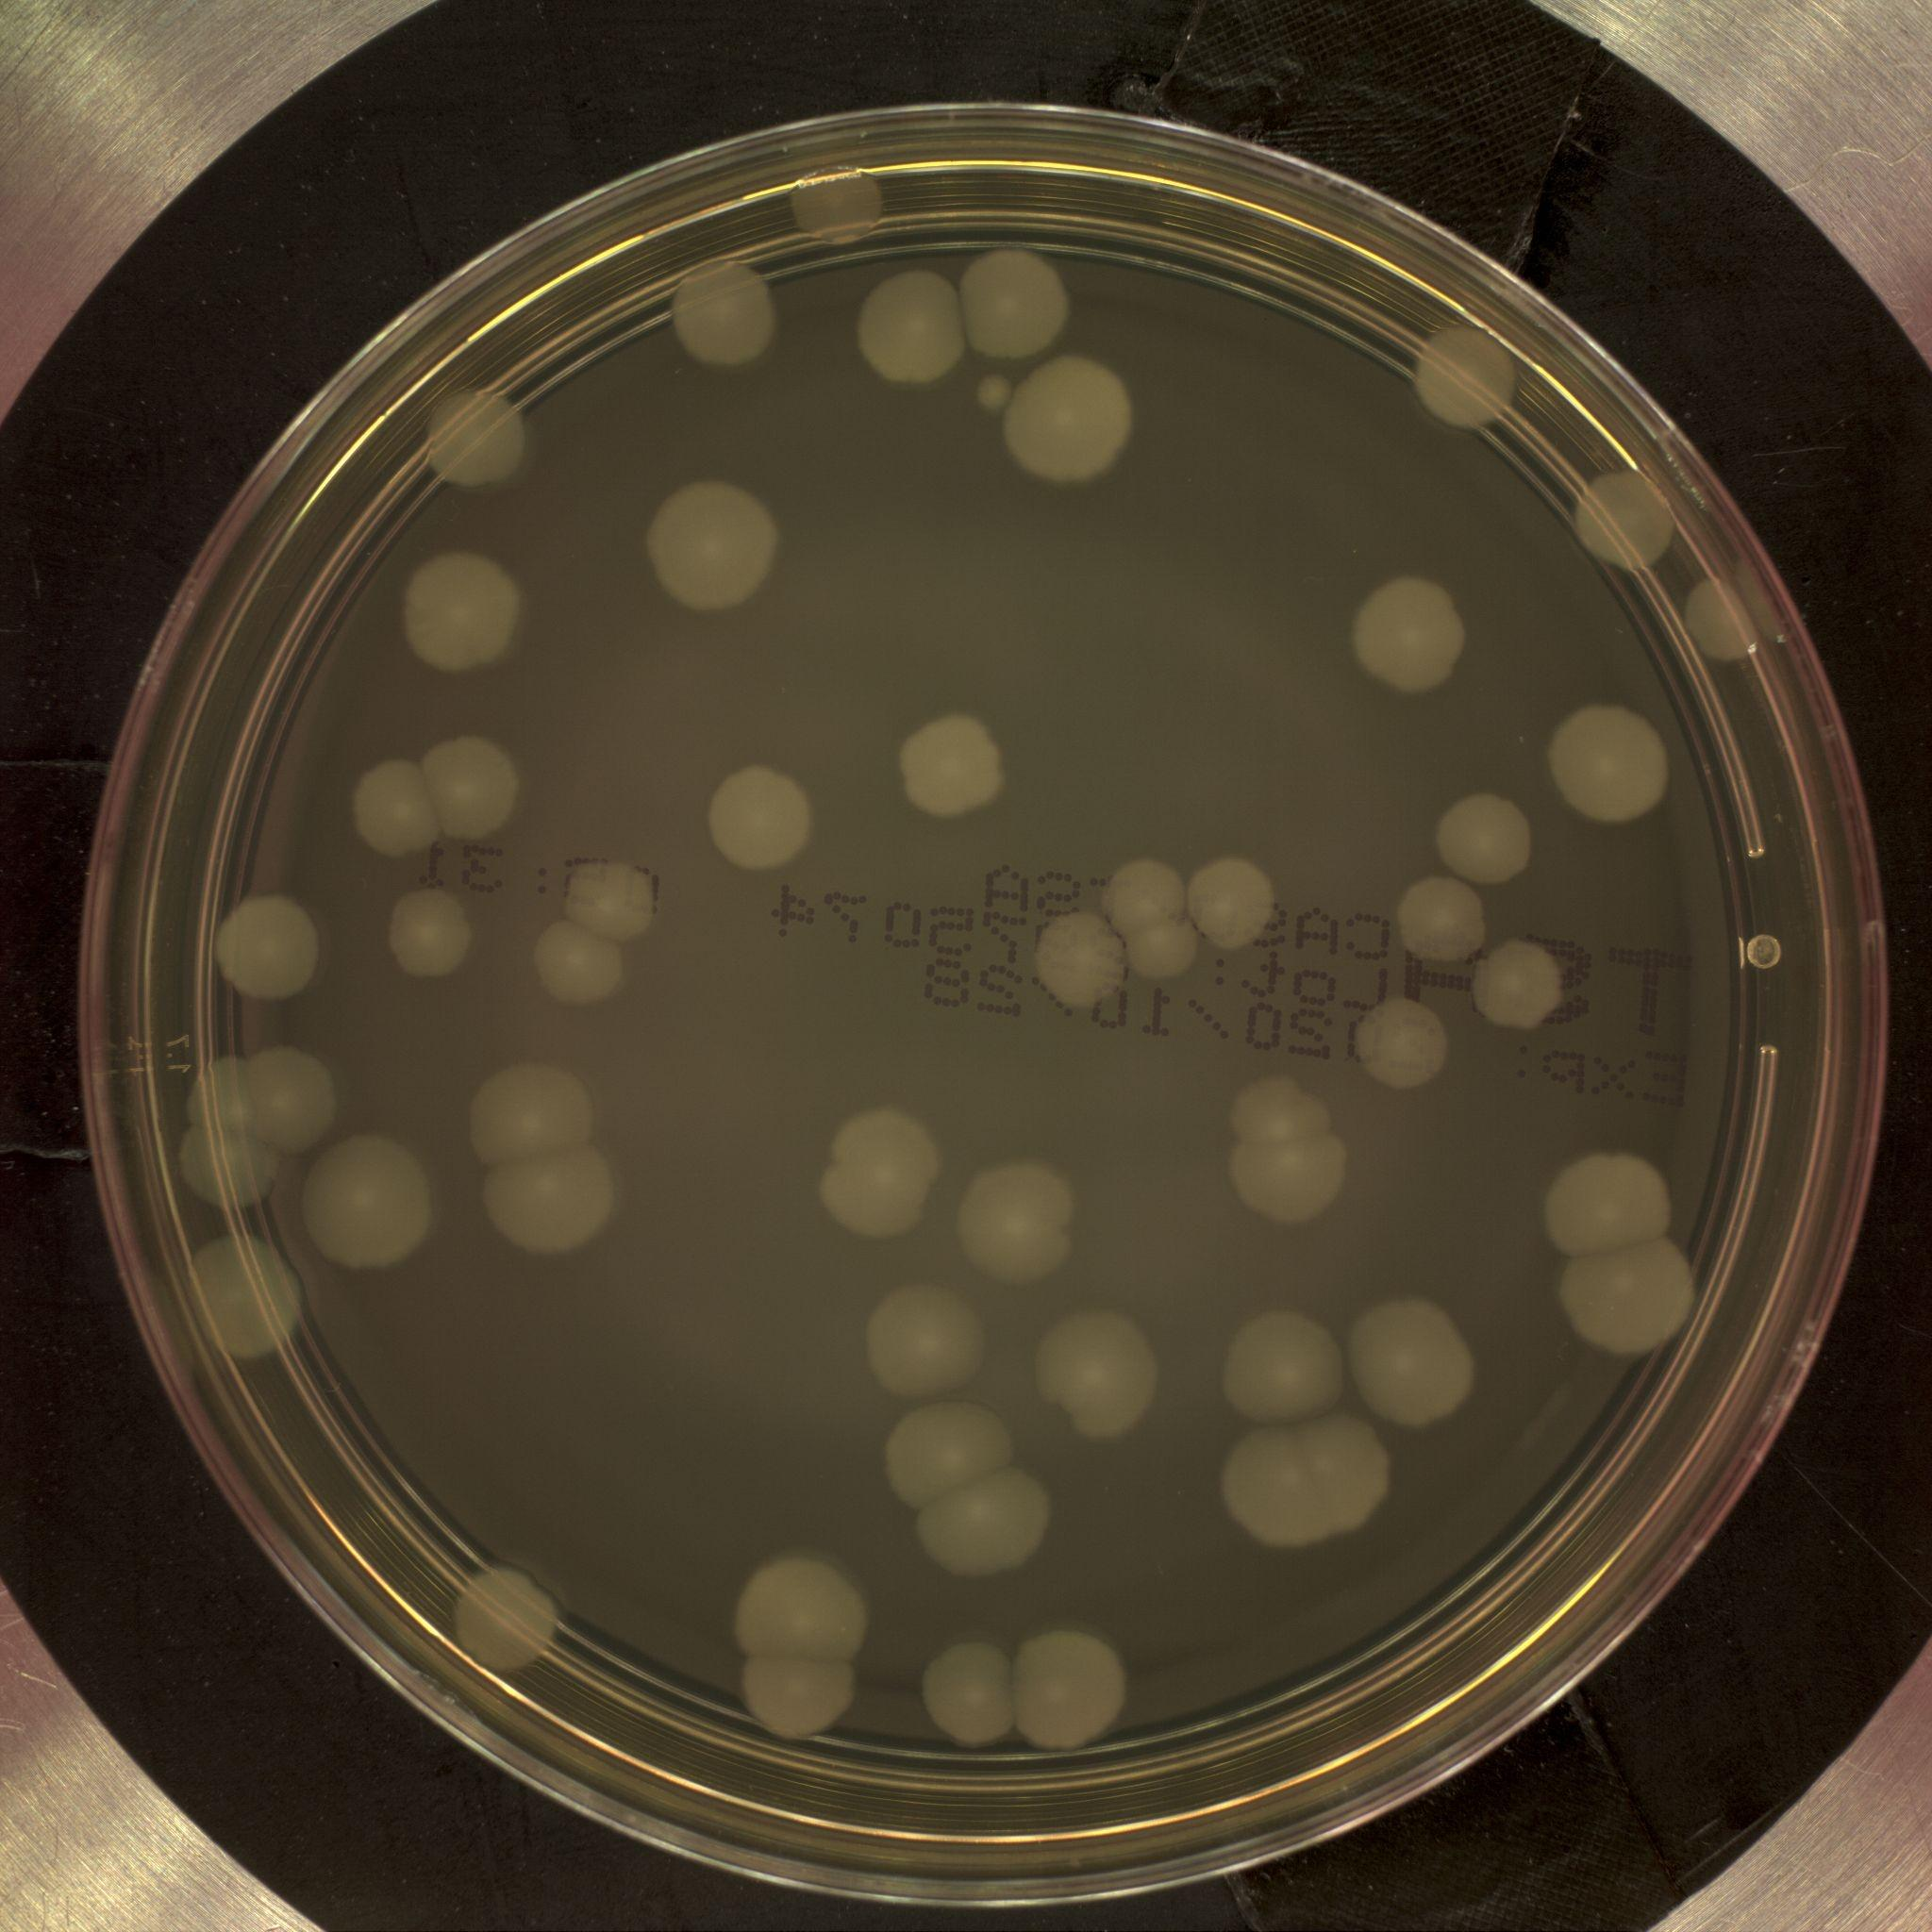e. coli: (1217, 1422, 1398, 1552), (646, 478, 782, 616), (1000, 349, 1136, 481), (175, 1231, 304, 1369), (478, 1136, 623, 1256), (301, 1139, 435, 1267), (1559, 1240, 1697, 1359), (817, 1109, 939, 1242), (1037, 1311, 1161, 1437), (398, 550, 522, 672), (1550, 702, 1674, 823), (734, 1555, 872, 1663), (920, 1467, 1053, 1578), (1357, 1300, 1477, 1422), (1355, 573, 1470, 699), (1012, 1628, 1127, 1752), (959, 1159, 1072, 1276), (1228, 1311, 1343, 1424), (865, 1283, 980, 1394), (957, 249, 1070, 361), (890, 1401, 1007, 1509), (455, 1562, 564, 1674), (1552, 1157, 1674, 1256), (860, 267, 966, 380), (897, 713, 1005, 821), (1228, 1127, 1352, 1221), (212, 893, 318, 1000), (706, 766, 812, 870), (474, 1067, 594, 1159), (669, 260, 777, 361), (423, 387, 531, 487), (426, 732, 525, 840), (1414, 322, 1513, 428), (1575, 472, 1677, 570), (249, 1046, 340, 1154), (529, 913, 632, 1007), (922, 1642, 1014, 1743), (745, 1654, 855, 1737), (172, 1123, 278, 1207), (1355, 996, 1449, 1090), (563, 856, 663, 943), (787, 159, 893, 241), (1035, 913, 1127, 1007), (1185, 855, 1277, 948), (1438, 793, 1534, 883), (1470, 939, 1562, 1030), (359, 759, 442, 856), (1399, 878, 1488, 964), (189, 1053, 278, 1138), (389, 890, 474, 977), (1231, 1069, 1332, 1141), (1104, 860, 1194, 936), (1686, 577, 1760, 662), (1125, 920, 1205, 985)
